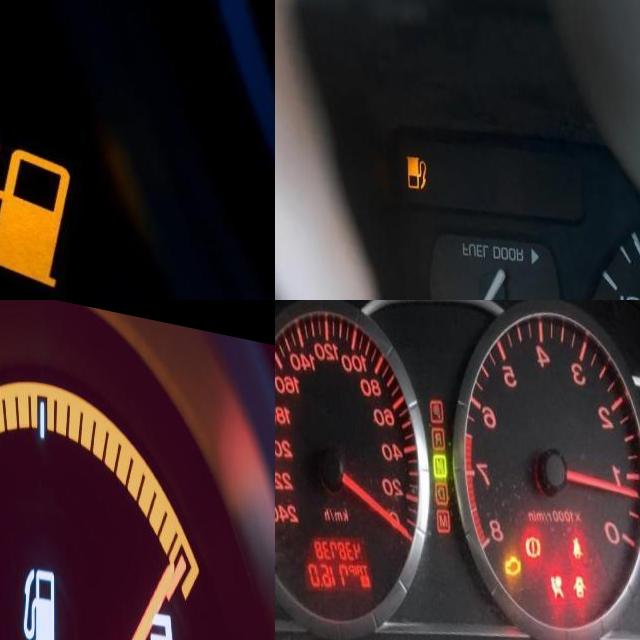Seat Belt: (572, 515, 583, 542)
